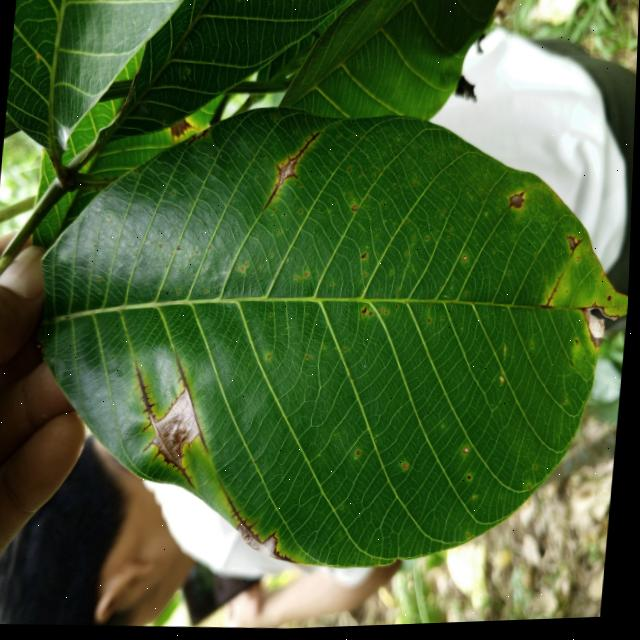Colletotrichum: (466, 449, 473, 457), (406, 466, 412, 471), (355, 206, 360, 212), (465, 258, 469, 264), (360, 452, 364, 458), (371, 314, 376, 318), (308, 274, 311, 279), (578, 261, 581, 265), (309, 356, 312, 360), (243, 268, 246, 272), (388, 313, 391, 316), (351, 170, 353, 173), (346, 350, 349, 352), (248, 264, 250, 267), (174, 192, 176, 195), (351, 196, 353, 198), (368, 201, 370, 203), (367, 276, 369, 278), (273, 315, 275, 317)
Corynespora: (127, 360, 209, 493), (221, 488, 308, 568), (169, 351, 220, 457), (264, 131, 321, 215), (542, 276, 567, 312), (169, 120, 200, 144), (566, 237, 586, 263), (189, 130, 210, 147)
Leaf-Blight: (584, 310, 609, 344)
